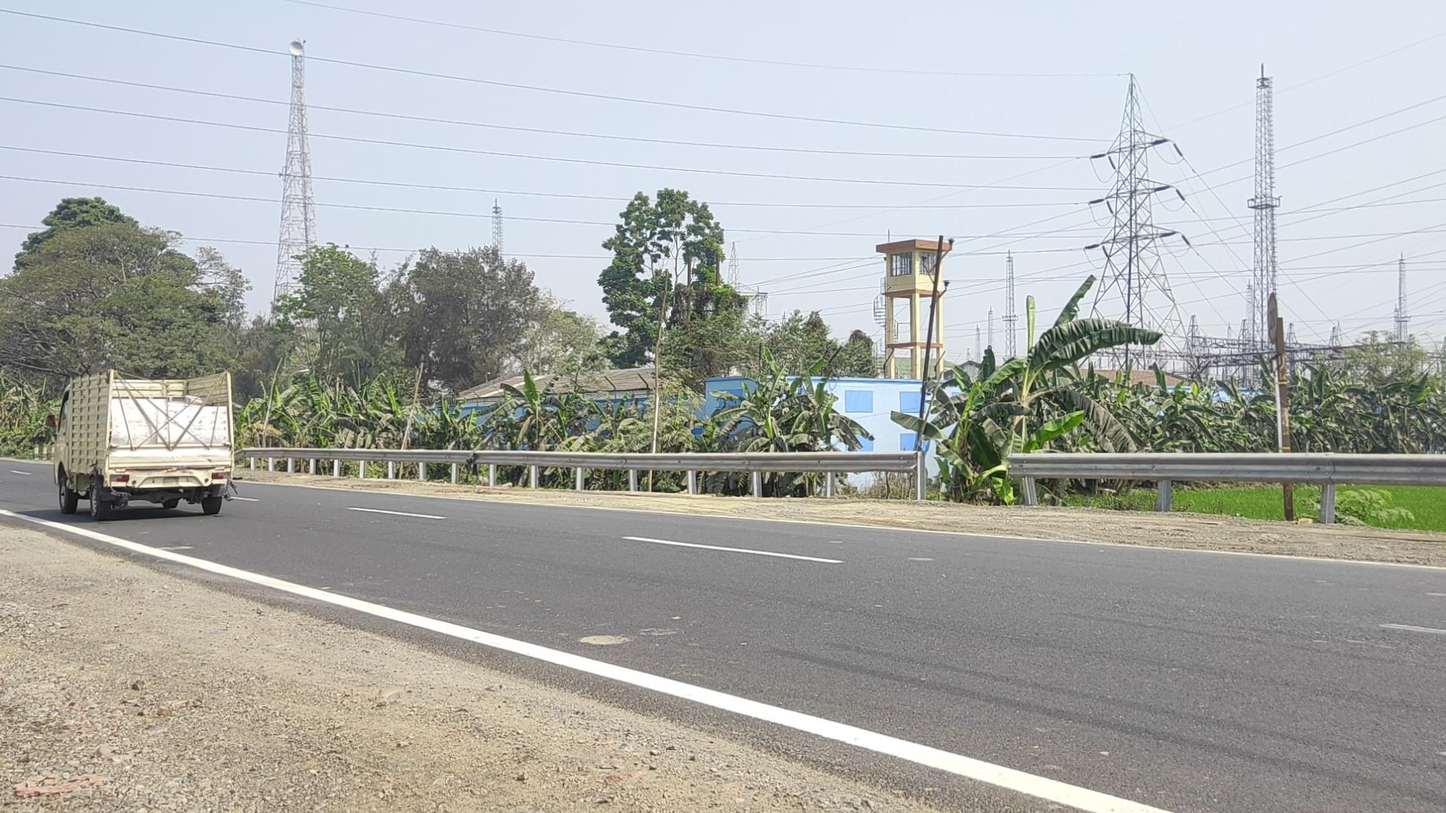van: (46, 368, 235, 522)
